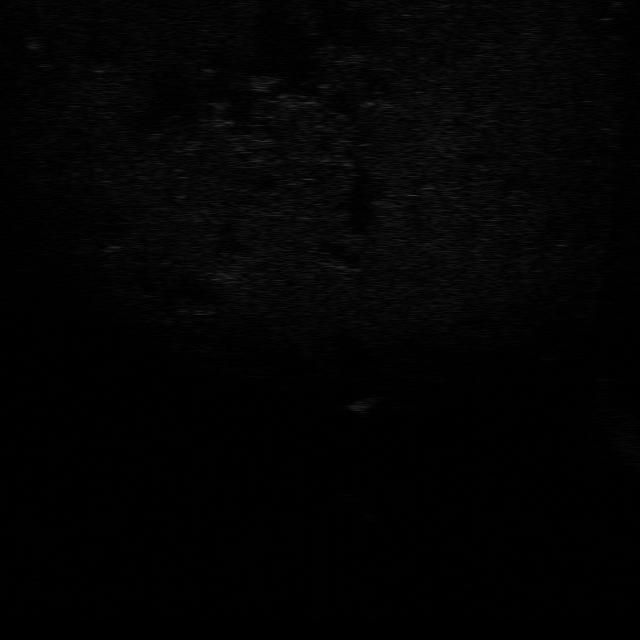square cage: (340, 393, 381, 414)
